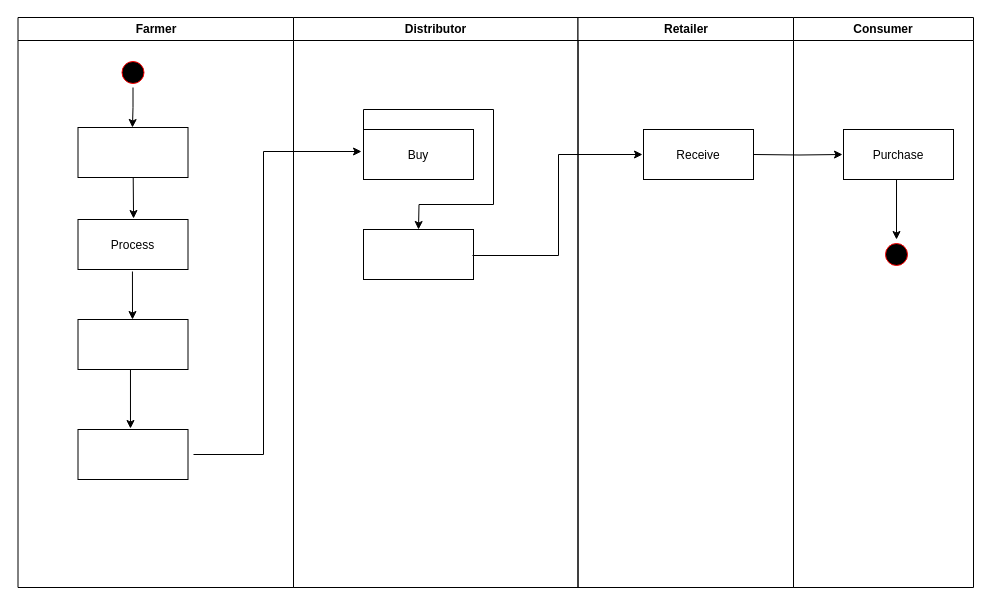
This 991x605 diagram has some shape labels left out. The centre of each missing label's shape, as x and y in pixels:
"ForSale" goes at (x=132, y=454).
"Harvest Product" goes at (x=132, y=152).
"Pack" goes at (x=132, y=344).
"Ship" goes at (x=418, y=254).
